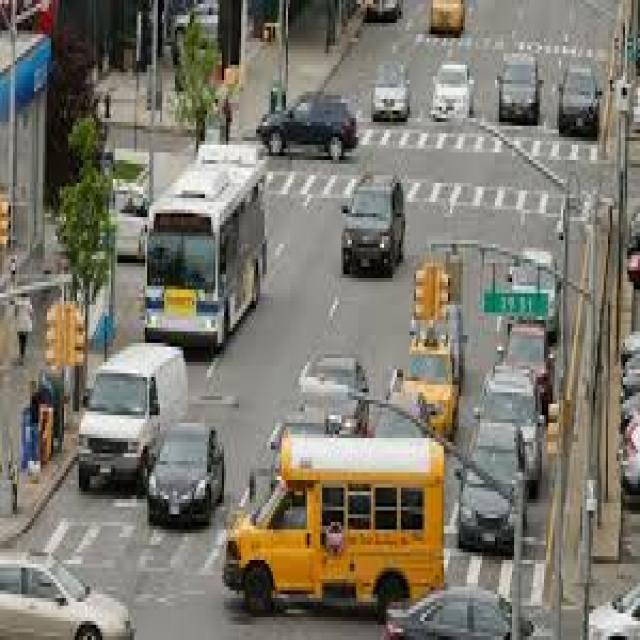bus: (145, 145, 265, 350)
car: (0, 556, 132, 640), (459, 423, 521, 556), (480, 366, 540, 491), (149, 427, 222, 522), (288, 354, 367, 438), (390, 339, 457, 438), (386, 587, 510, 640), (256, 95, 354, 160), (343, 179, 403, 278), (508, 324, 550, 415), (171, 0, 215, 65), (497, 53, 535, 126), (559, 65, 597, 137), (373, 61, 407, 122), (433, 65, 471, 118), (365, 0, 399, 23)
person: (15, 297, 30, 362)
truck: (224, 434, 442, 617), (79, 343, 186, 495)
